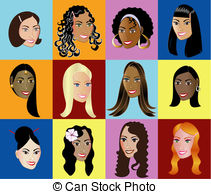face: (7, 119, 49, 171), (112, 118, 148, 162), (64, 124, 93, 176), (115, 62, 151, 97), (63, 67, 97, 104), (170, 58, 197, 101), (11, 12, 44, 46), (9, 64, 37, 104), (69, 3, 96, 43), (168, 8, 198, 44), (170, 124, 199, 157), (117, 12, 144, 46)
